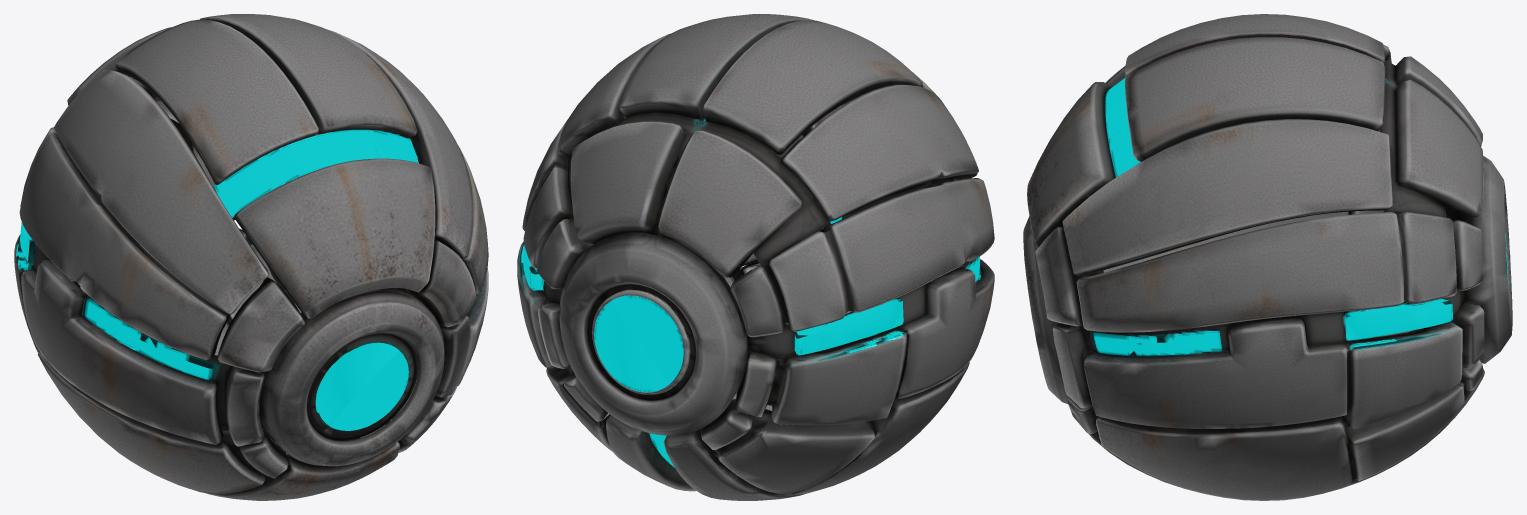
The model's file is aci-01.glb.
The picture shows the model from 3 angles, left to right: view 1: azimuth 30°, elevation 25°; view 2: azimuth 150°, elevation 25°; view 3: azimuth 270°, elevation 25°; orthographic projection.
Parts seen in each view (by area): view 1: aci-01-tripo-limpio; view 2: aci-01-tripo-limpio; view 3: aci-01-tripo-limpio.
Part boxes in pixels (bbox=[...]): aci-01-tripo-limpio: bbox=[14, 14, 488, 500]; aci-01-tripo-limpio: bbox=[517, 14, 994, 500]; aci-01-tripo-limpio: bbox=[1023, 14, 1512, 500].
Bounding box in the file's own units: 0.9624 × 0.9995 × 0.9956.
1 material, 1 textured.
